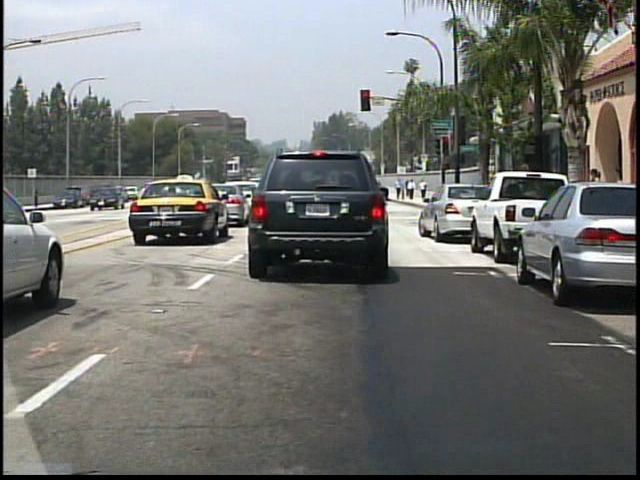person: (586, 164, 608, 231), (419, 178, 429, 200), (408, 177, 416, 201), (397, 176, 405, 199)
